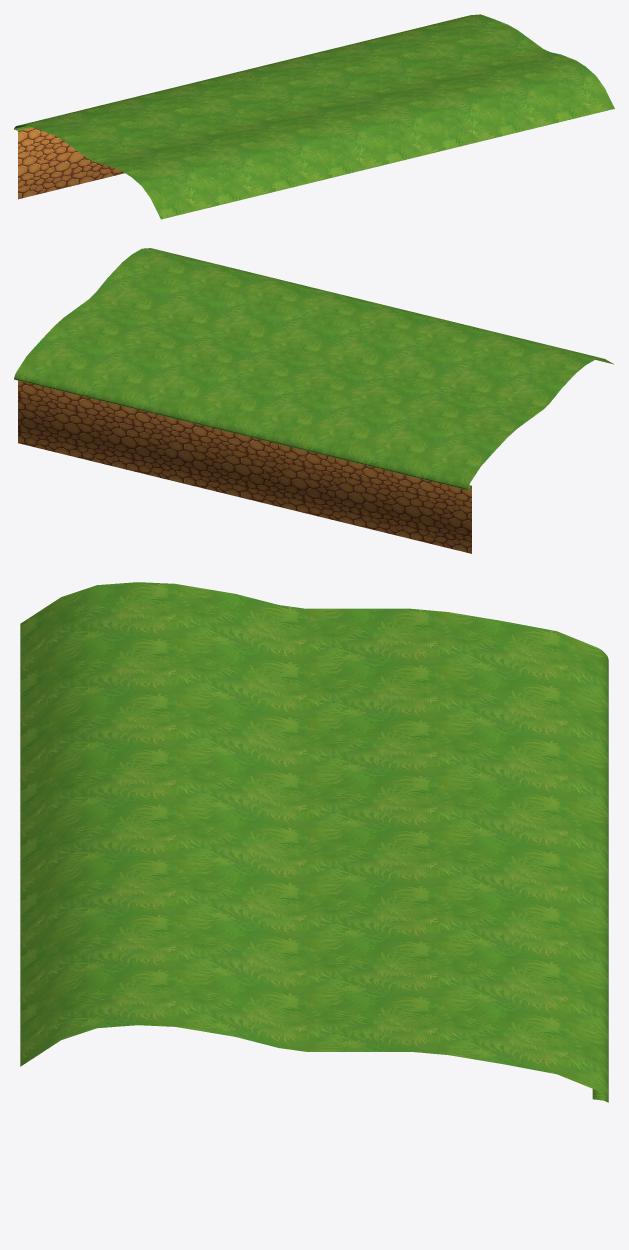
The model's file is GroundTile01.FBX.
3 views of the same model, one above another, from view 1: azimuth 30°, elevation 25°; view 2: azimuth 150°, elevation 25°; view 3: azimuth 270°, elevation 25° (orthographic). The views are drawn at different scales.
Visible parts, largest first — view 1: GrountTile01; view 2: GrountTile01; view 3: GrountTile01.
Part boxes in pixels (<box>): GrountTile01: <box>14,14,614,219</box>; GrountTile01: <box>14,248,613,553</box>; GrountTile01: <box>20,582,608,1102</box>.
Bounding box in the file's own units: 200 × 44.33 × 112.
Materials: 2 (2 with a texture image).
